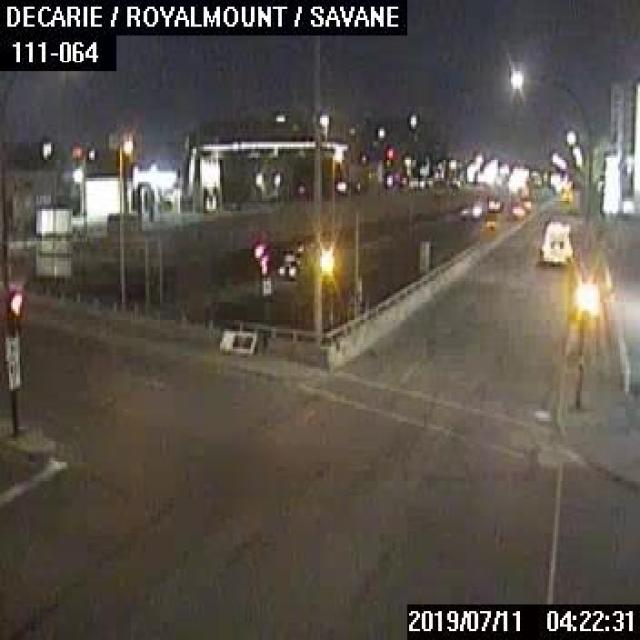vehicle: (538, 220, 569, 264)
